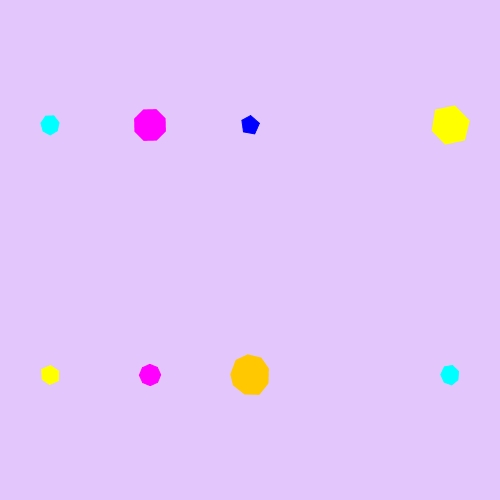heptagon: (36, 111, 65, 139), (436, 361, 465, 389)
hexagon: (425, 104, 475, 146), (35, 362, 65, 388)
nonagon: (226, 352, 275, 399)
octagon: (129, 104, 171, 146), (135, 360, 166, 391)
pentagon: (236, 111, 264, 139)
